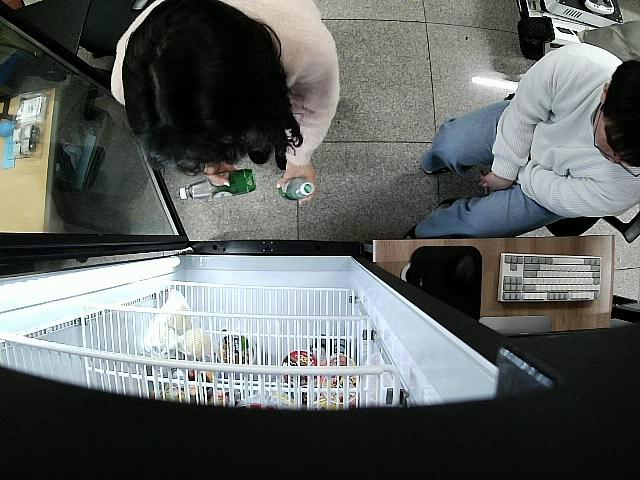00_hand: (275, 163, 316, 205), (205, 159, 235, 189)
18_trevi: (179, 169, 256, 202), (281, 175, 315, 202)
